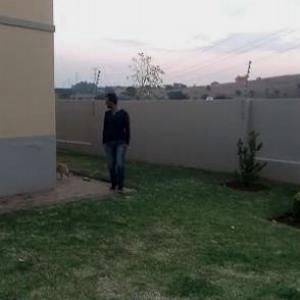follow: (99, 89, 135, 198)
